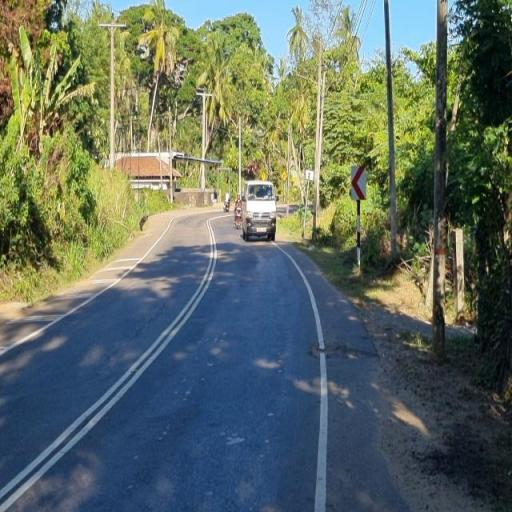double_white_line: (0, 216, 224, 512)
